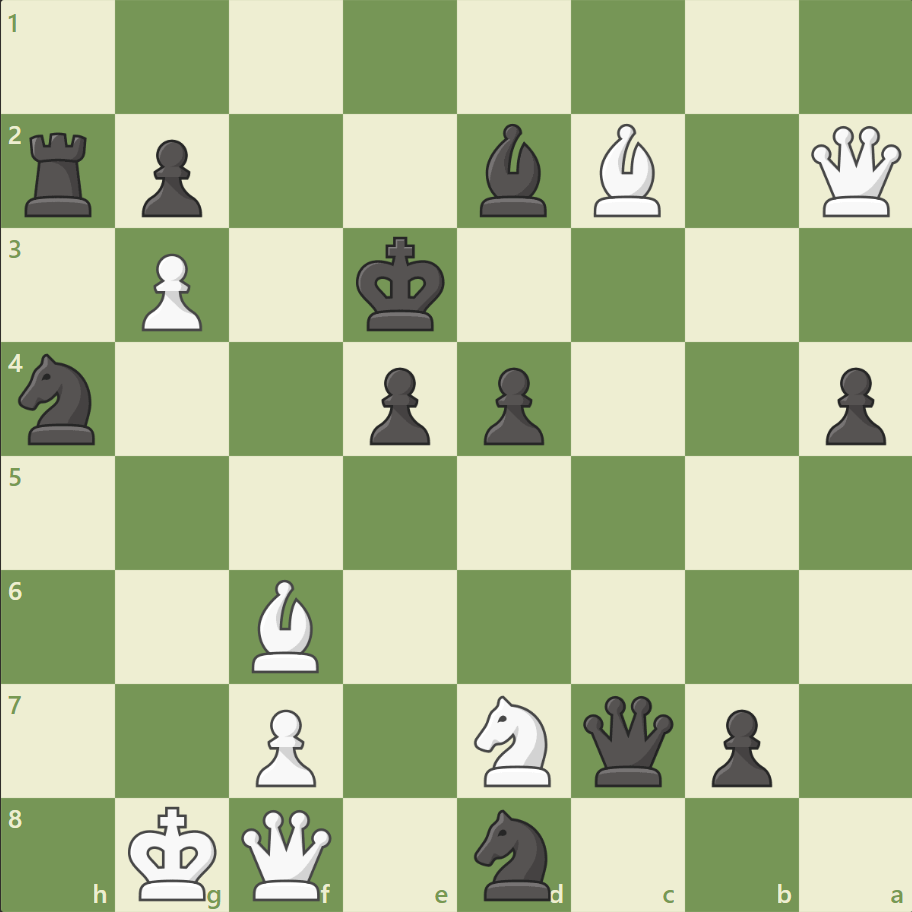B: (244, 574, 328, 676), (585, 120, 669, 222)
K: (124, 798, 224, 906)
N: (465, 688, 562, 791)
P: (247, 700, 322, 791), (133, 246, 208, 337)
Q: (805, 122, 904, 222), (237, 804, 336, 903)
b: (471, 120, 555, 222)
k: (351, 231, 451, 339)
n: (465, 802, 562, 904), (11, 348, 108, 450)
p: (701, 700, 776, 791), (474, 359, 549, 450), (133, 132, 208, 223), (815, 359, 889, 450), (361, 359, 435, 450)
q: (578, 690, 677, 789)
r: (19, 125, 102, 222)
